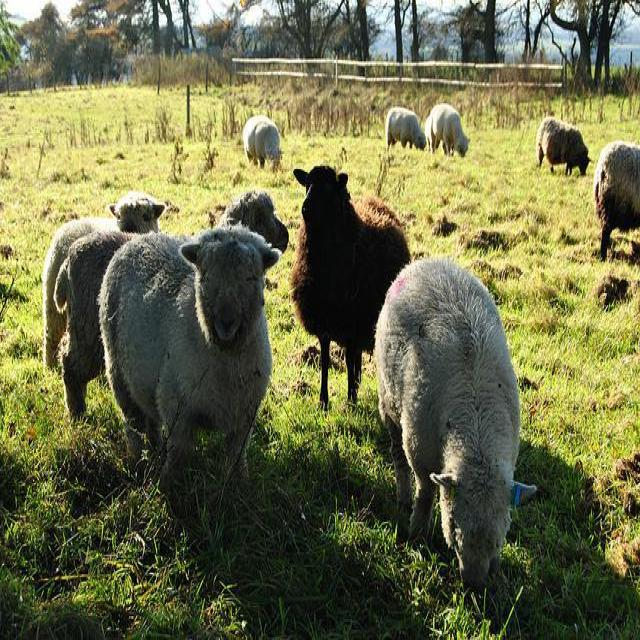Sheep: (53, 187, 293, 419), (375, 256, 537, 594), (98, 224, 281, 482), (291, 162, 414, 411), (43, 187, 167, 374), (595, 140, 639, 258), (536, 114, 593, 178), (424, 102, 470, 160), (243, 114, 280, 170)
